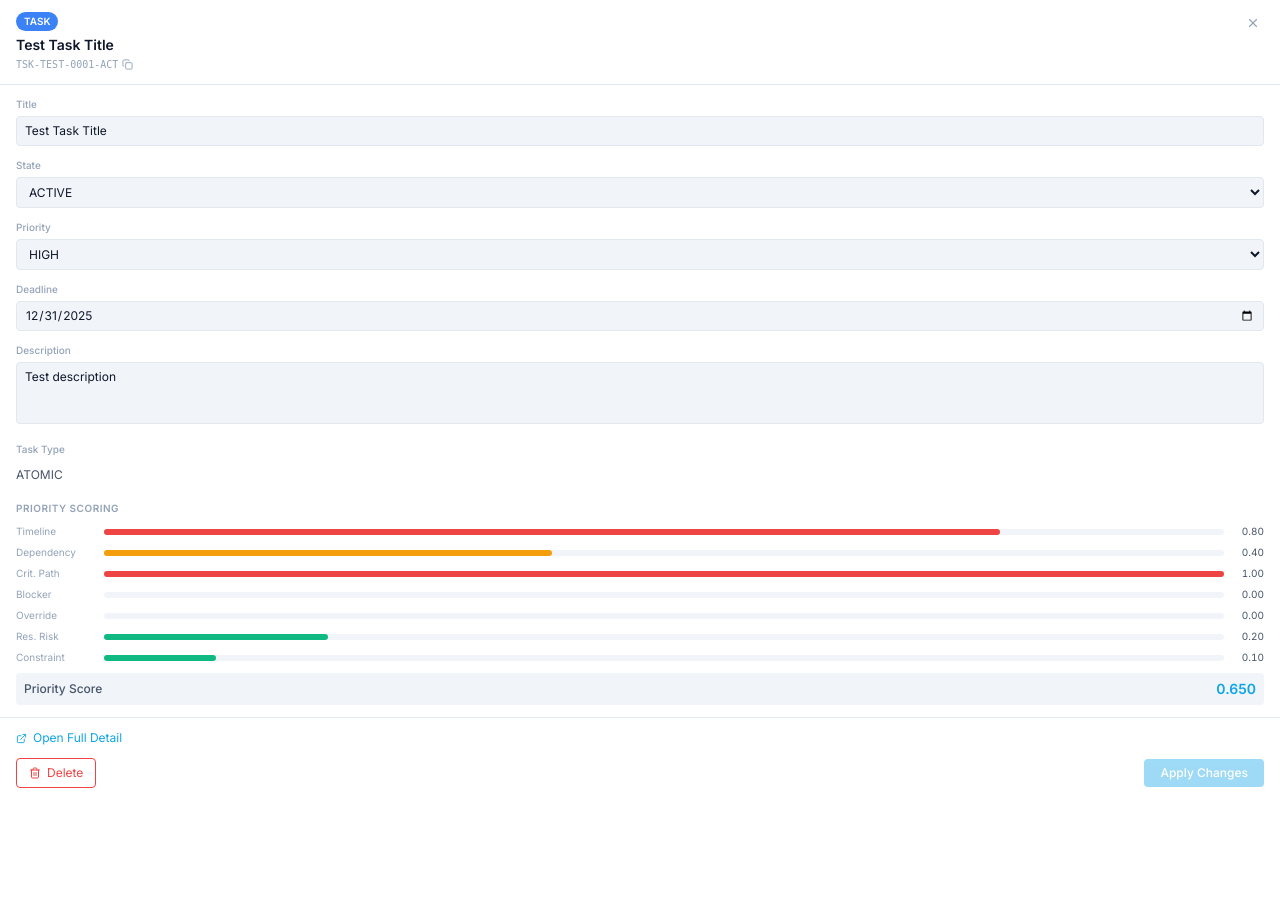
NodeInspector › delete button shows confirmation
Click the button with test id "inspector-delete": (56, 773) top-left (16, 758), bottom-right (96, 788)
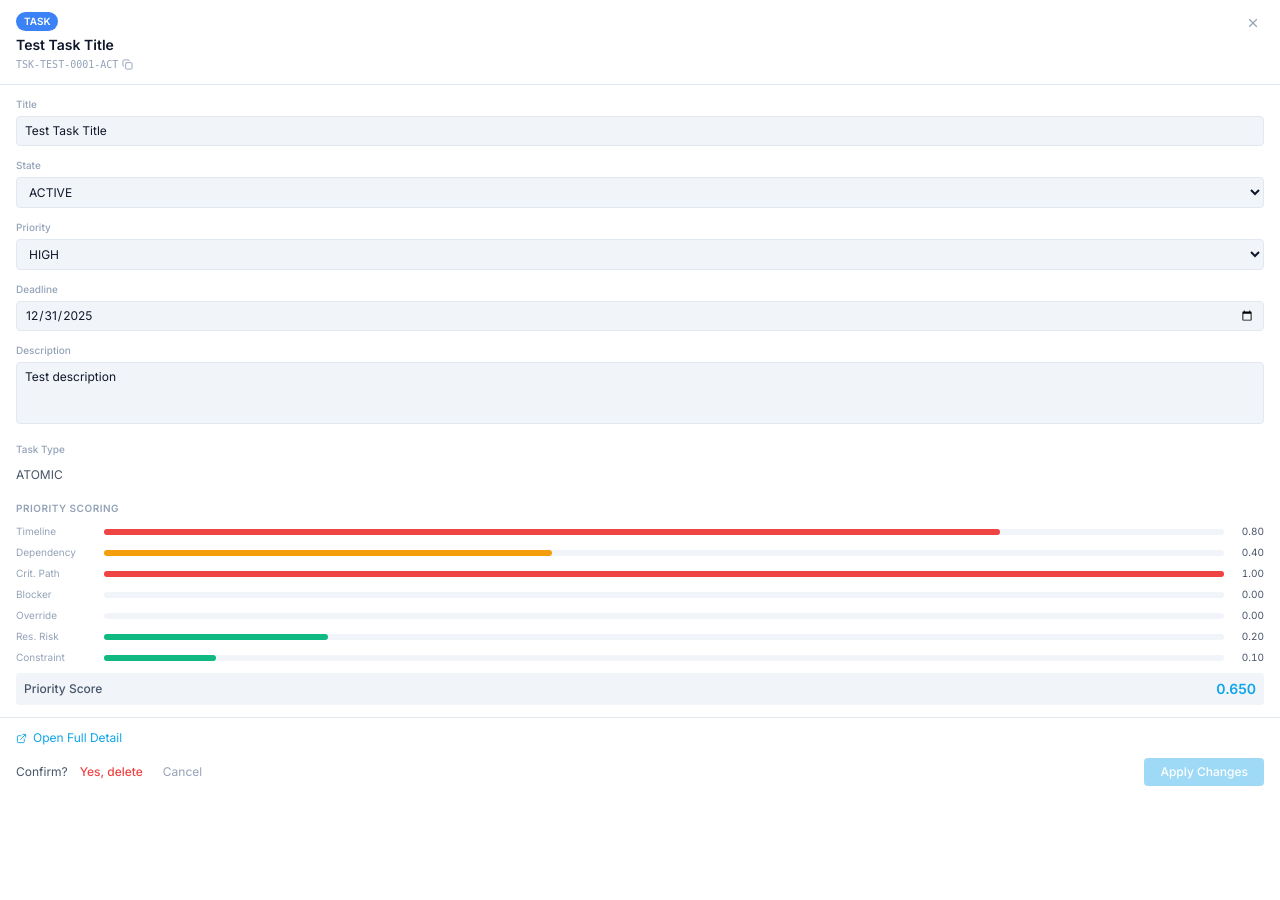
Now the button with test id "inspector-delete-confirm" is shown, box top-left (72, 760), bottom-right (151, 784)
